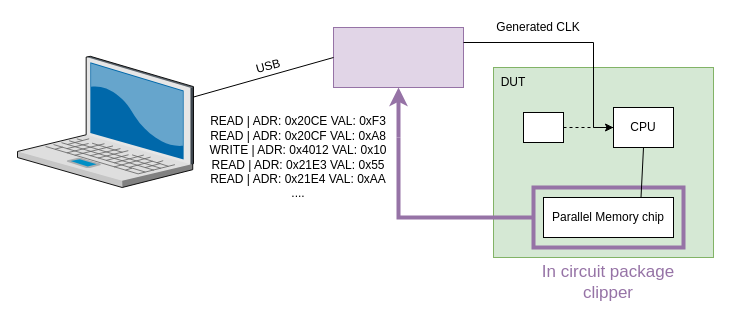
Image size: 731x320. Some labels were removed from this diagram. Here are the shapes that lost their labels. From the top down, the box of each, then its label:
(332, 26, 464, 88): PMTLeech
(522, 112, 564, 142): XTAL
